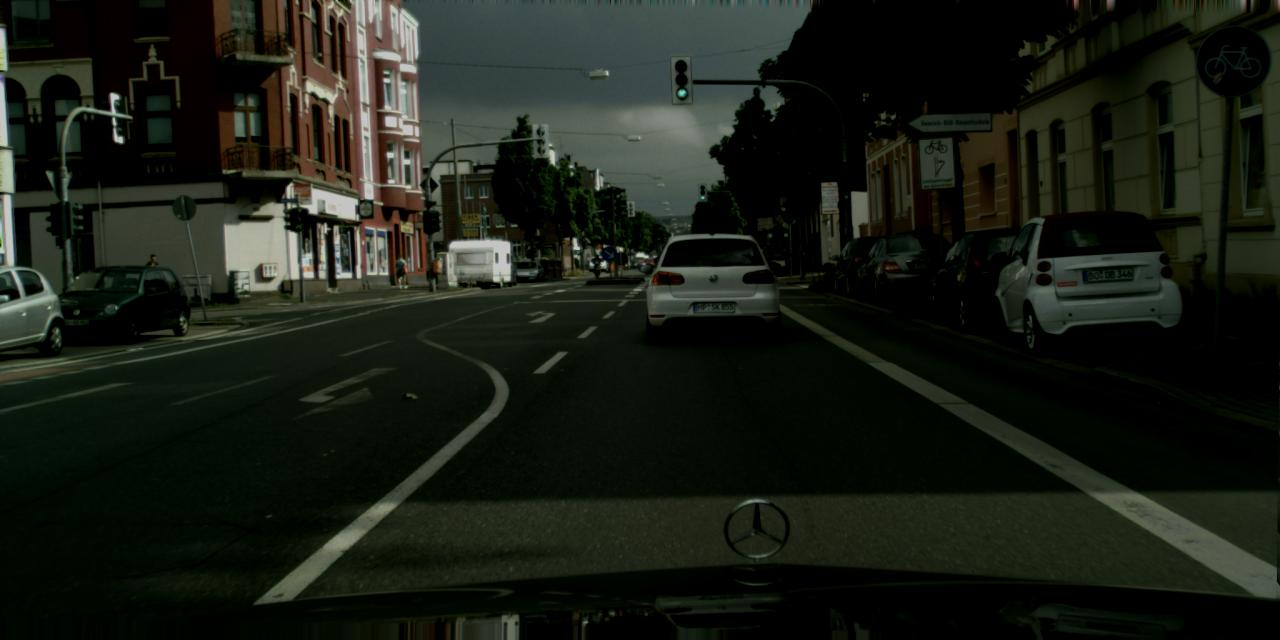ped: (140, 254, 162, 310), (393, 255, 406, 288), (396, 253, 408, 284), (592, 253, 600, 272)
